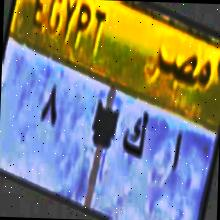8: (36, 72, 66, 145)
alif: (162, 126, 188, 186)
kaaf: (119, 108, 150, 167)
